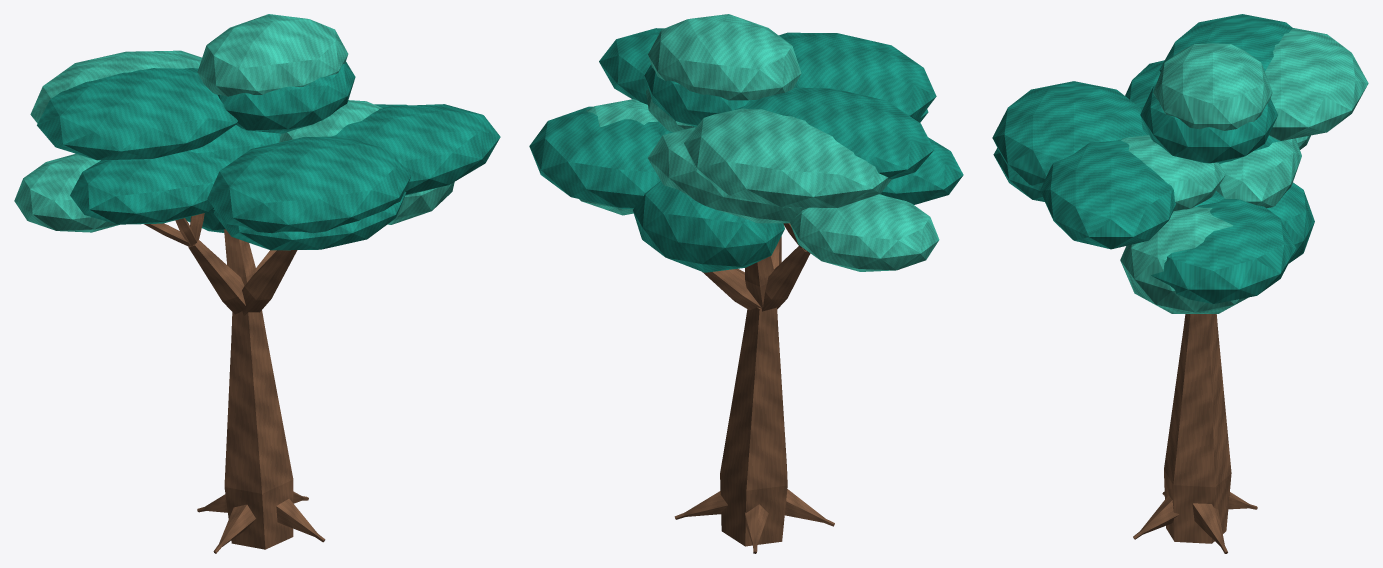
File: teal_tree.glb
3 views of the same model, side by side, from view 1: azimuth 30°, elevation 25°; view 2: azimuth 150°, elevation 25°; view 3: azimuth 270°, elevation 25° (orthographic). The views are drawn at different scales.
Parts seen in each view (by area): view 1: Branching_tree.001; view 2: Branching_tree.001; view 3: Branching_tree.001.
Boxes of the visible parts, x1,y1,x2,y2 form: Branching_tree.001: [14, 14, 500, 553]; Branching_tree.001: [529, 14, 963, 553]; Branching_tree.001: [992, 14, 1368, 553].
Bounding box in the file's own units: 2.79 × 3.32 × 2.3.
Materials: 3 (3 with a texture image).
